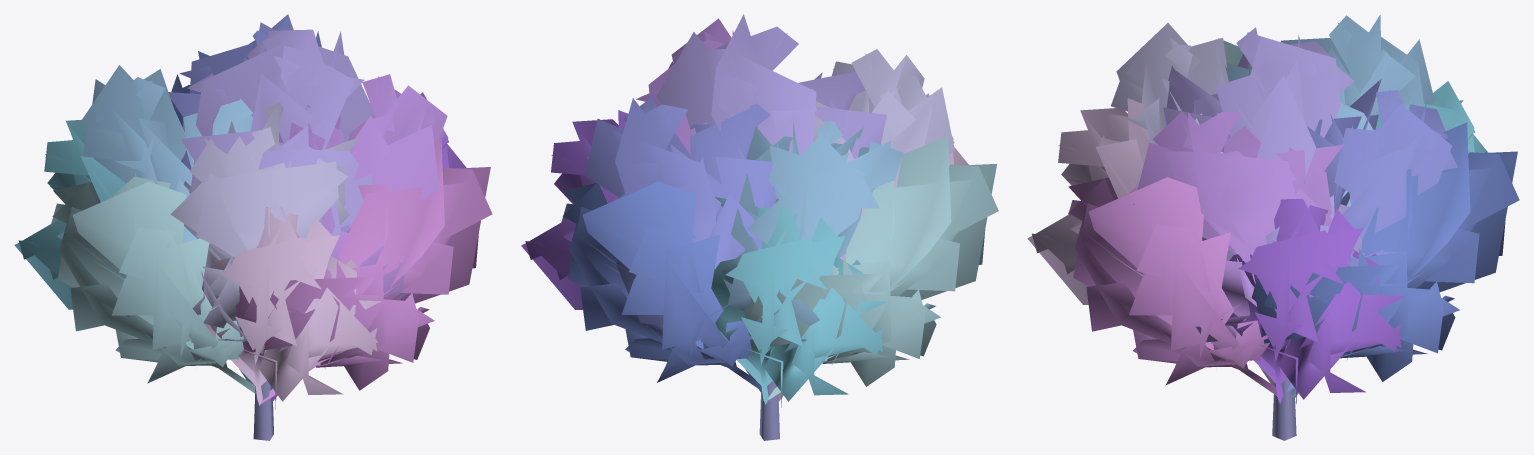
3 renders of one model, left to right at view 1: azimuth 30°, elevation 25°; view 2: azimuth 150°, elevation 25°; view 3: azimuth 270°, elevation 25°, orthographic. The views are drawn at different scales.
Visible parts, largest first — view 1: SM_BS_Buxus_200cm_HD; view 2: SM_BS_Buxus_200cm_HD; view 3: SM_BS_Buxus_200cm_HD.
Part boxes in pixels (x1,y1,x2,y2): SM_BS_Buxus_200cm_HD: (14,14,492,440); SM_BS_Buxus_200cm_HD: (521,14,998,440); SM_BS_Buxus_200cm_HD: (1027,14,1519,440).
Bounding box in the file's own units: 104 × 104 × 97.58.
